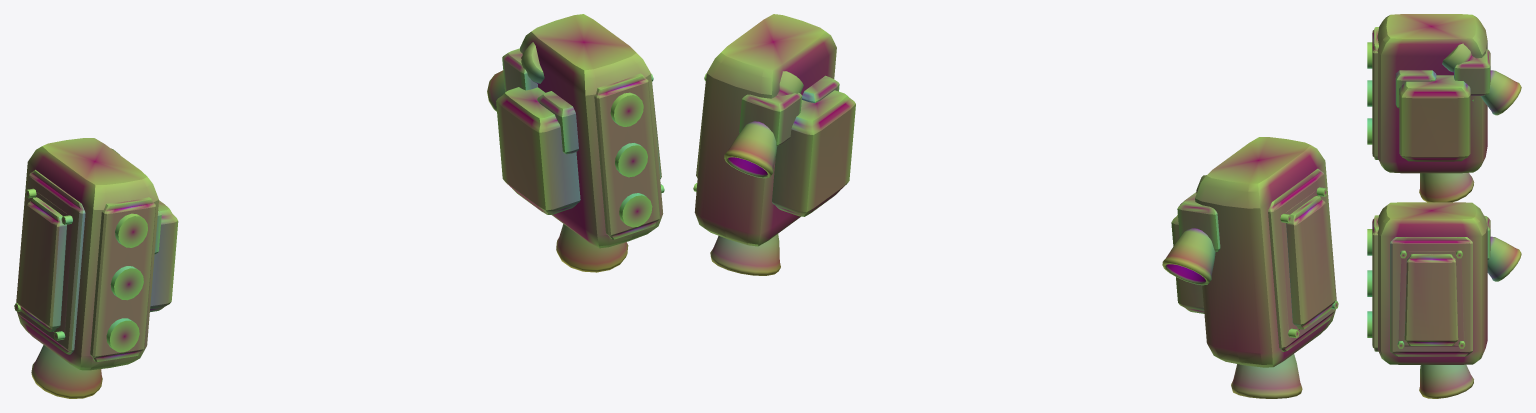
Rendered from llm_gen_leg_thrusters_064_3f5725.glb.
3 views of the same model, side by side, from view 1: azimuth 30°, elevation 25°; view 2: azimuth 150°, elevation 25°; view 3: azimuth 270°, elevation 25° (orthographic). The views are drawn at different scales.
Parts seen in each view (by area): view 1: leg_missile_hull_0_titanium_silver_r, leg_missile_hull_0_titanium_silver_l, adapter_calf_clamp_r, leg_pod_armor_cover_6_cobalt_anodized_l, adapter_sub_missile_bezel_dark_1_adapter_dark_l, adapter_sub_missile_bezel_dark_1_adapter_dark_r, adapter_sub_side_frame_dark_5_adapter_dark_l, leg_ankle_bell_7_vernier_bell_vernier_l, leg_ankle_bell_7_vernier_bell_vernier_r, adapter_calf_clamp_l, adapter_leg_knee_mount_dark_10_adapter_dark_r, adapter_leg_mount_pod_dark_8_adapter_dark_r (+7 smaller); view 2: leg_missile_hull_0_titanium_silver_l, leg_missile_hull_0_titanium_silver_r, adapter_calf_clamp_r, leg_pod_armor_cover_6_cobalt_anodized_l, adapter_sub_side_frame_dark_5_adapter_dark_l, leg_ankle_bell_7_vernier_bell_vernier_l, addon_leg_bell_9_vernier_bell_vernier_r, leg_ankle_bell_7_vernier_bell_vernier_r, addon_leg_bell_9_vernier_bell_vernier_l, adapter_leg_mount_pod_dark_8_adapter_dark_r, adapter_leg_mount_pod_dark_8_adapter_dark_l, adapter_calf_clamp_l (+1 smaller); view 3: leg_missile_hull_0_titanium_silver_l, leg_missile_hull_0_titanium_silver_r, leg_pod_armor_cover_6_cobalt_anodized_r, adapter_calf_clamp_l, adapter_sub_side_frame_dark_5_adapter_dark_r, leg_ankle_bell_7_vernier_bell_vernier_r, leg_ankle_bell_7_vernier_bell_vernier_l, adapter_leg_mount_pod_dark_8_adapter_dark_l, addon_leg_bell_9_vernier_bell_vernier_l, addon_leg_bell_9_vernier_bell_vernier_r, adapter_sub_missile_bezel_dark_1_adapter_dark_r, adapter_sub_missile_bezel_dark_1_adapter_dark_l (+9 smaller).
Part boxes in pixels (x1,y1,x2,y2): leg_missile_hull_0_titanium_silver_r: (520, 14, 663, 248); leg_missile_hull_0_titanium_silver_l: (16, 138, 158, 370); adapter_calf_clamp_r: (496, 87, 580, 214); leg_pod_armor_cover_6_cobalt_anodized_l: (14, 188, 72, 340); adapter_sub_missile_bezel_dark_1_adapter_dark_l: (90, 197, 155, 361); adapter_sub_missile_bezel_dark_1_adapter_dark_r: (594, 73, 660, 239); adapter_sub_side_frame_dark_5_adapter_dark_l: (17, 169, 85, 354); leg_ankle_bell_7_vernier_bell_vernier_l: (31, 345, 102, 398); leg_ankle_bell_7_vernier_bell_vernier_r: (556, 224, 628, 272); adapter_calf_clamp_l: (150, 200, 178, 311); adapter_leg_knee_mount_dark_10_adapter_dark_r: (537, 91, 578, 154); adapter_leg_mount_pod_dark_8_adapter_dark_r: (502, 48, 537, 91); leg_missile_hull_0_titanium_silver_l: (1195, 137, 1336, 367); leg_missile_hull_0_titanium_silver_r: (694, 14, 836, 246); adapter_calf_clamp_r: (772, 90, 855, 216); leg_pod_armor_cover_6_cobalt_anodized_l: (1280, 187, 1338, 337); adapter_sub_side_frame_dark_5_adapter_dark_l: (1268, 168, 1335, 351); leg_ankle_bell_7_vernier_bell_vernier_l: (1231, 354, 1302, 398); addon_leg_bell_9_vernier_bell_vernier_r: (724, 121, 777, 178); leg_ankle_bell_7_vernier_bell_vernier_r: (710, 234, 780, 275); addon_leg_bell_9_vernier_bell_vernier_l: (1162, 228, 1215, 285); adapter_leg_mount_pod_dark_8_adapter_dark_r: (739, 93, 801, 146); adapter_leg_mount_pod_dark_8_adapter_dark_l: (1177, 192, 1220, 251); adapter_calf_clamp_l: (1171, 214, 1204, 313); leg_missile_hull_0_titanium_silver_l: (1377, 14, 1487, 173); leg_missile_hull_0_titanium_silver_r: (1377, 202, 1487, 364); leg_pod_armor_cover_6_cobalt_anodized_r: (1397, 250, 1465, 348); adapter_calf_clamp_l: (1399, 75, 1470, 161); adapter_sub_side_frame_dark_5_adapter_dark_r: (1390, 237, 1472, 356); leg_ankle_bell_7_vernier_bell_vernier_r: (1419, 364, 1473, 398); leg_ankle_bell_7_vernier_bell_vernier_l: (1419, 172, 1474, 202); adapter_leg_mount_pod_dark_8_adapter_dark_l: (1454, 49, 1490, 95); addon_leg_bell_9_vernier_bell_vernier_l: (1480, 70, 1521, 115); addon_leg_bell_9_vernier_bell_vernier_r: (1487, 236, 1521, 281); adapter_sub_missile_bezel_dark_1_adapter_dark_r: (1372, 215, 1378, 351); adapter_sub_missile_bezel_dark_1_adapter_dark_l: (1372, 27, 1378, 159).
Size of the model in its own units: 84.69 by 30.45 by 23.91.
